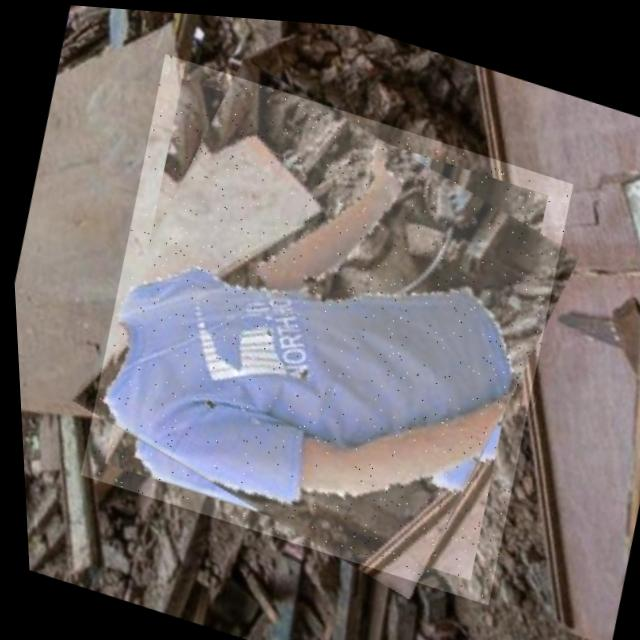Person in Rubble: (58, 44, 589, 603)
